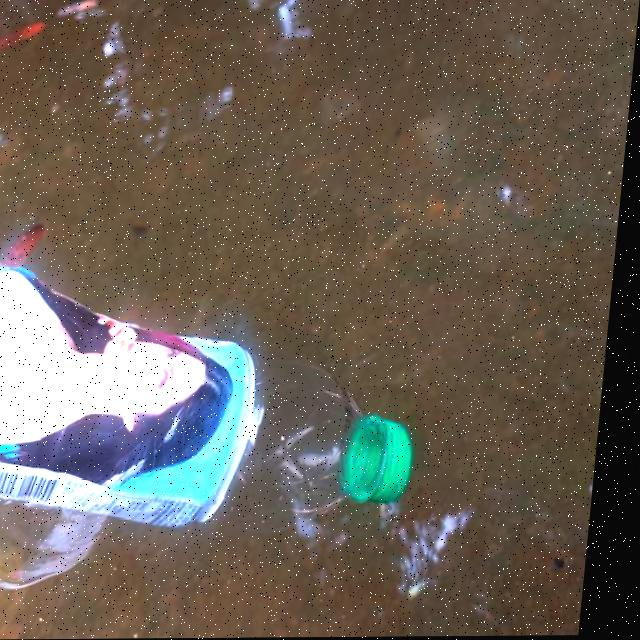waterbottle: (0, 227, 465, 582)
